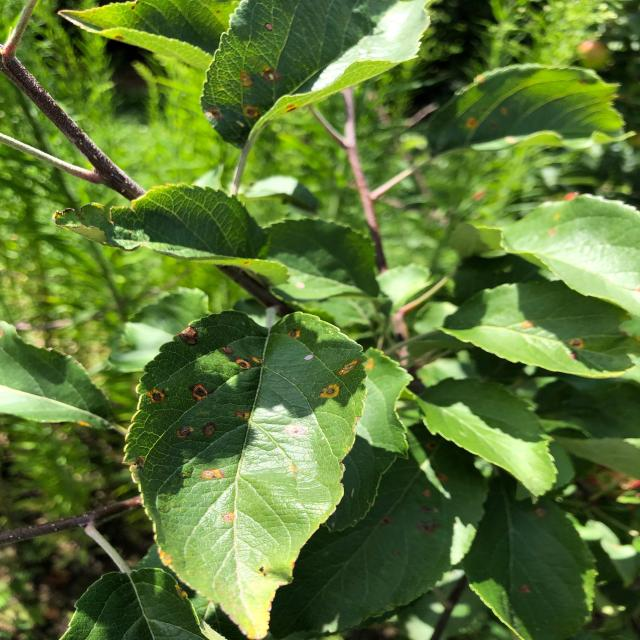Rust: (134, 381, 170, 412), (190, 462, 233, 486), (172, 322, 204, 350), (273, 422, 319, 440), (231, 70, 259, 99), (554, 332, 596, 350), (506, 315, 544, 334), (328, 357, 364, 377), (194, 103, 230, 123), (314, 383, 350, 402), (196, 418, 222, 444), (274, 325, 306, 346), (236, 105, 273, 122), (192, 380, 212, 410), (172, 422, 195, 444), (229, 352, 250, 374), (260, 68, 284, 85), (256, 21, 285, 35), (229, 406, 257, 420)
